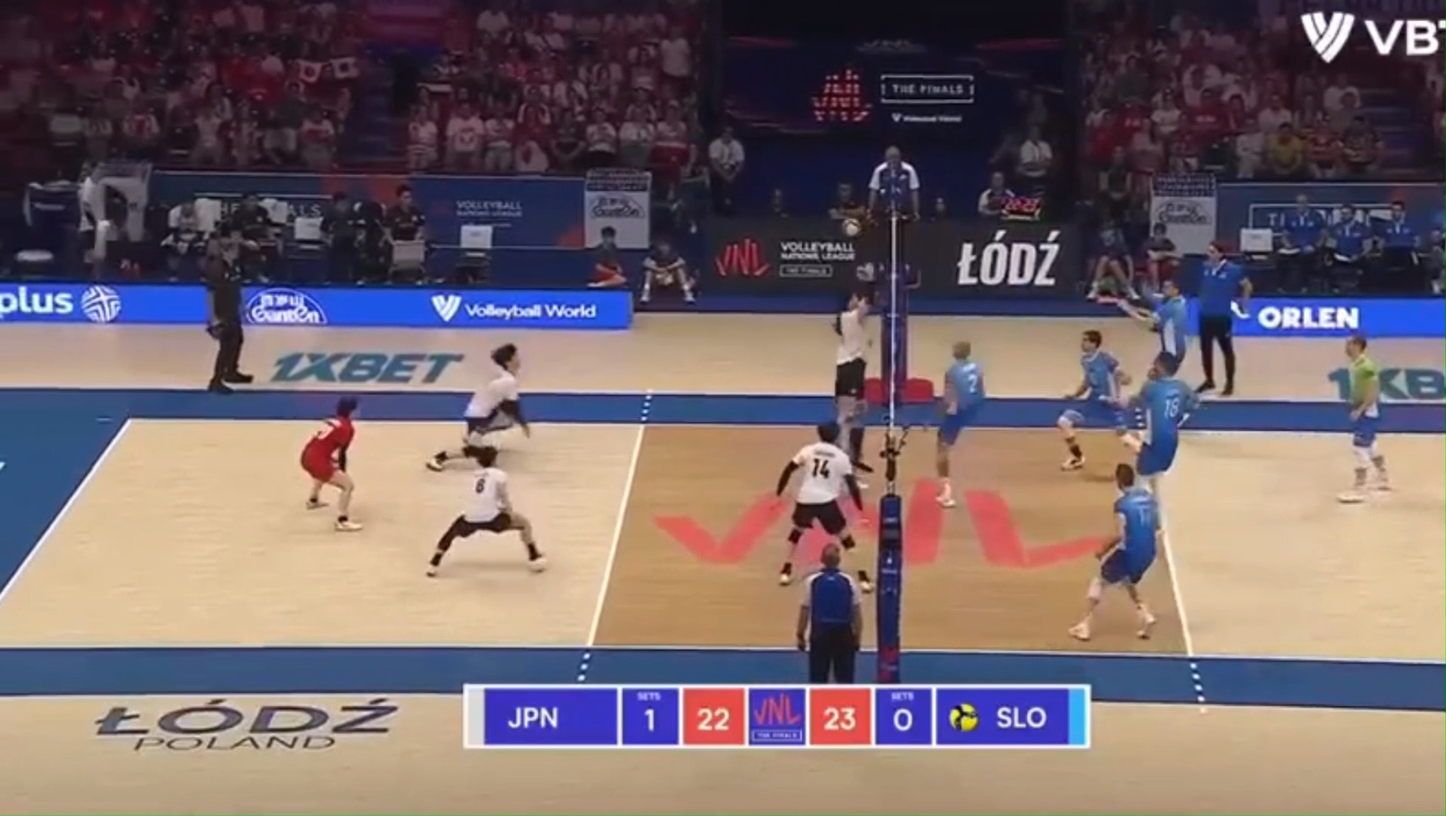ball: (842, 219, 860, 236)
player: (1070, 463, 1160, 641), (1056, 329, 1128, 470), (1338, 333, 1389, 502), (935, 341, 986, 508), (1138, 376, 1194, 474), (1122, 279, 1188, 361)
player 1: (428, 445, 545, 576), (775, 422, 862, 585), (427, 344, 529, 471), (299, 397, 362, 531), (834, 291, 871, 472)
referee: (796, 543, 862, 683), (1197, 241, 1252, 395), (202, 231, 254, 393), (866, 147, 922, 289)
